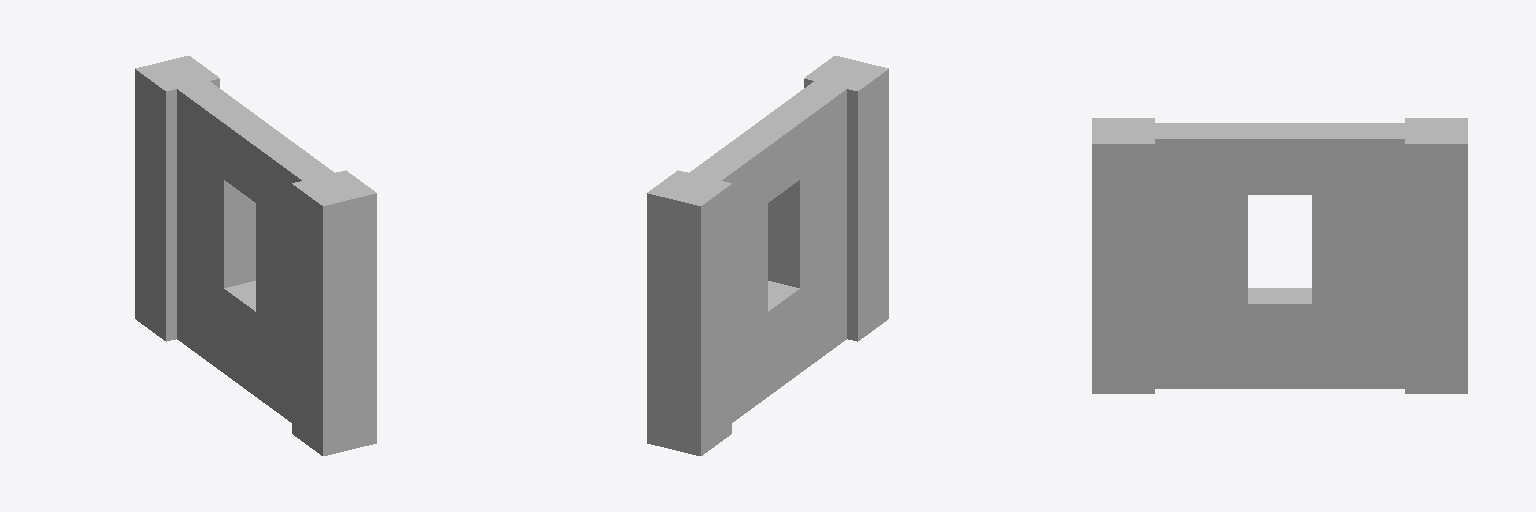
The model's file is Grey_Window_Square_01.obj.
The picture shows the model from 3 angles: view 1: azimuth 30°, elevation 25°; view 2: azimuth 150°, elevation 25°; view 3: azimuth 270°, elevation 25°; orthographic projection.
Visible parts, largest first — view 1: Mesh1 Grey_Window_Square Model; view 2: Mesh1 Grey_Window_Square Model; view 3: Mesh1 Grey_Window_Square Model.
Part boxes in pixels (x1,y1,x2,y2): Mesh1 Grey_Window_Square Model: (135,56,376,455); Mesh1 Grey_Window_Square Model: (647,56,888,455); Mesh1 Grey_Window_Square Model: (1092,118,1467,393).
Size of the model in its own units: 0.5 by 2.2 by 3.